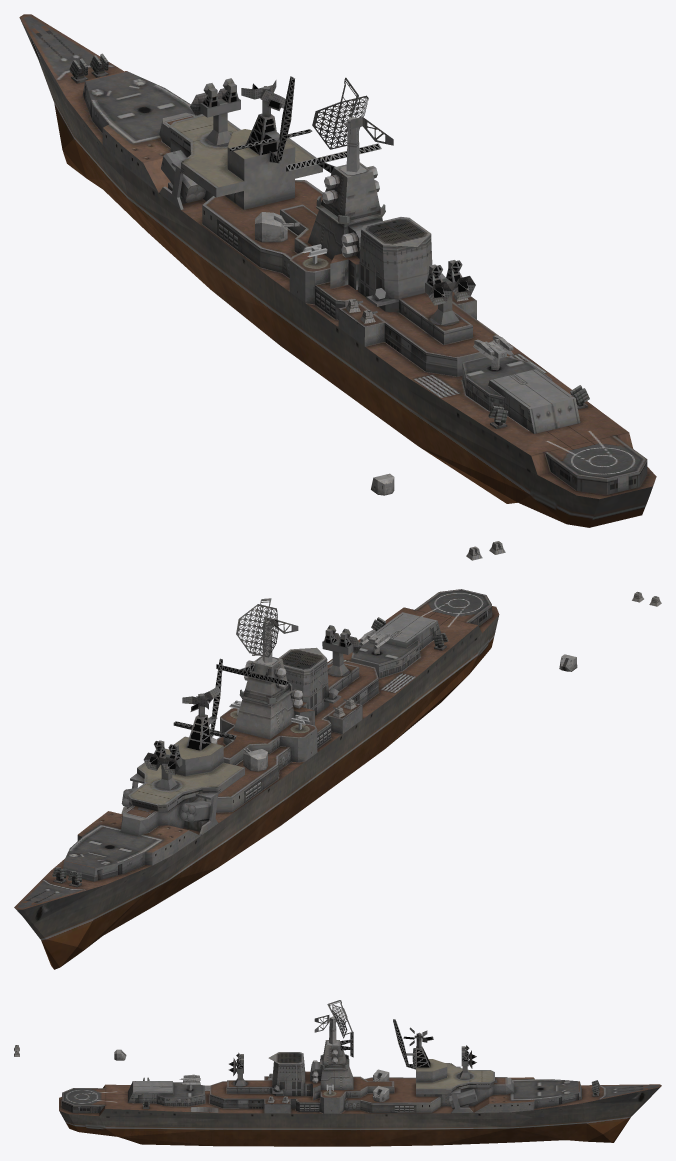
Rendered from corvetteTranslated.obj.
The picture shows the model from 3 angles, top to bottom: view 1: azimuth 30°, elevation 25°; view 2: azimuth 150°, elevation 25°; view 3: azimuth 270°, elevation 25°; orthographic projection. The views are drawn at different scales.
Visible parts, largest first — view 1: DrawCall_0, DrawCall_1, DrawCall_4; view 2: DrawCall_0, DrawCall_1; view 3: DrawCall_0, DrawCall_1.
Part boxes in pixels (x1,y1,x2,y2): DrawCall_0: (19,14,656,527); DrawCall_1: (312,77,393,172); DrawCall_4: (255,212,287,242); DrawCall_0: (14,589,499,969); DrawCall_1: (236,598,298,662); DrawCall_0: (59,1019,661,1146); DrawCall_1: (314,1000,352,1044).
Size of the model in its own units: 42.33 by 45.48 by 186.
Materials: 9 (7 with a texture image).
